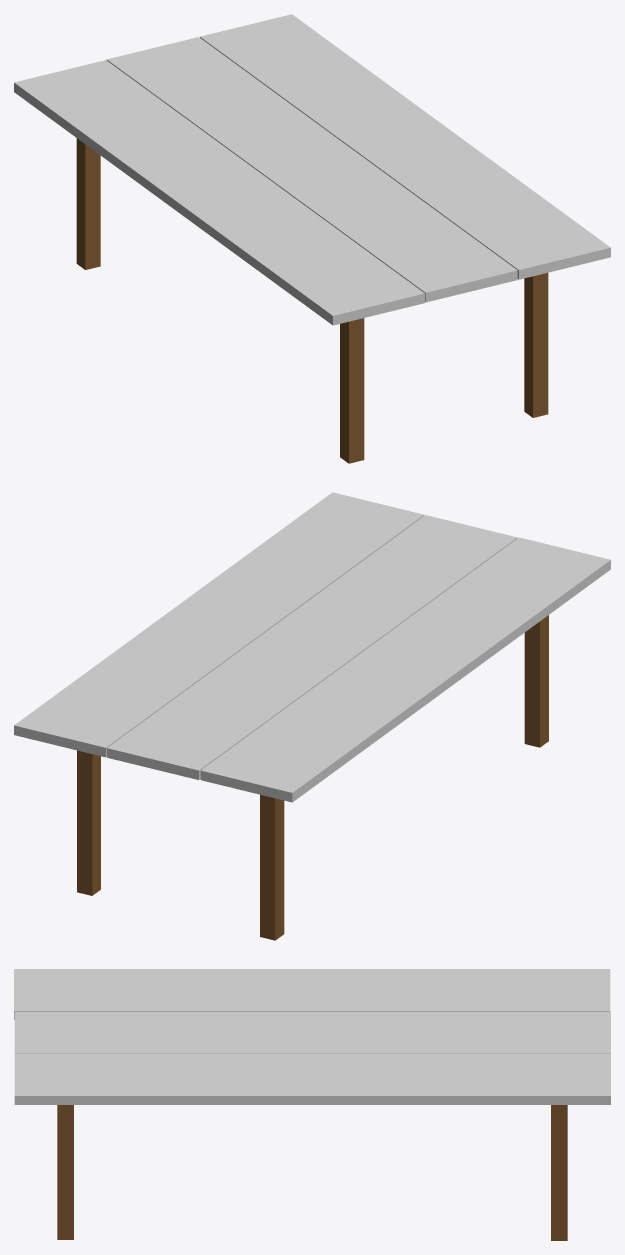
The model's file is Table.glb.
3 views of the same model, one above another, from view 1: azimuth 30°, elevation 25°; view 2: azimuth 150°, elevation 25°; view 3: azimuth 270°, elevation 25° (orthographic). The views are drawn at different scales.
Parts seen in each view (by area): view 1: Cube.002, Cube.001, Cube, Cube.006, Cube.003, Cube.005; view 2: Cube.002, Cube, Cube.001, Cube.005, Cube.004, Cube.006; view 3: Cube.001, Cube.002, Cube, Cube.004, Cube.003.
Boxes of the visible parts, x1=… form: Cube.002: x1=14, y1=60, x2=424, y2=325; Cube.001: x1=200, y1=14, x2=610, y2=279; Cube: x1=106, y1=37, x2=517, y2=302; Cube.006: x1=340, y1=318, x2=364, y2=463; Cube.003: x1=524, y1=273, x2=548, y2=417; Cube.005: x1=76, y1=138, x2=100, y2=269; Cube.002: x1=200, y1=537, x2=610, y2=802; Cube: x1=107, y1=515, x2=517, y2=779; Cube.001: x1=14, y1=492, x2=424, y2=757; Cube.005: x1=260, y1=794, x2=284, y2=940; Cube.004: x1=77, y1=750, x2=100, y2=895; Cube.006: x1=524, y1=615, x2=548, y2=747; Cube.001: x1=14, y1=1054, x2=610, y2=1104; Cube.002: x1=14, y1=969, x2=610, y2=1019; Cube: x1=14, y1=1011, x2=610, y2=1053; Cube.004: x1=551, y1=1105, x2=567, y2=1240; Cube.003: x1=57, y1=1105, x2=73, y2=1239.
Size of the model in its own units: 6.05 by 3.62 by 12.02.
